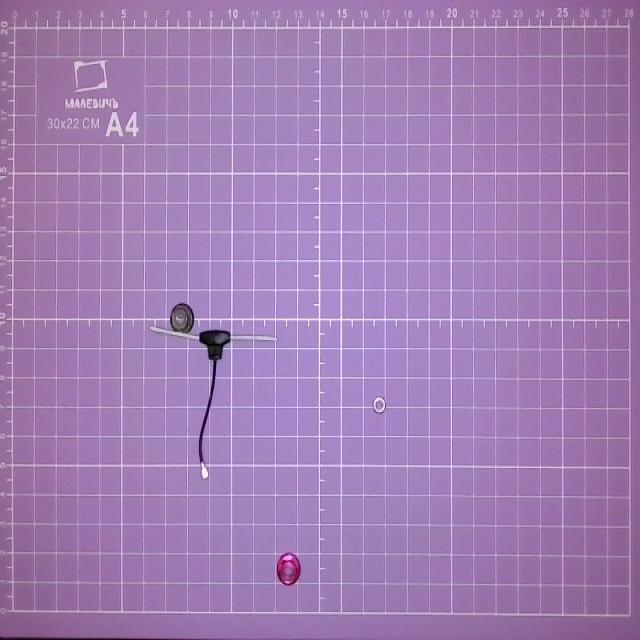antenna: (148, 321, 278, 480)
screw_M3: (371, 394, 391, 416)
screw_M5: (272, 547, 308, 587), (168, 296, 194, 340)
